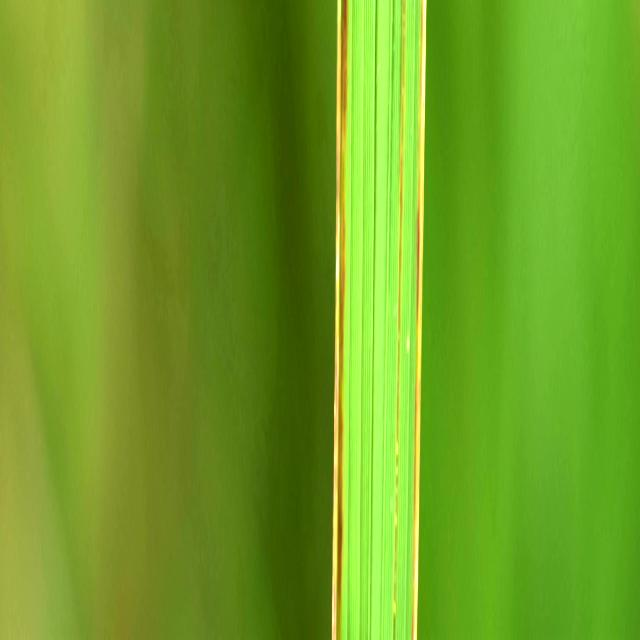BLS: (333, 0, 348, 638), (412, 0, 426, 637), (393, 0, 405, 635)
